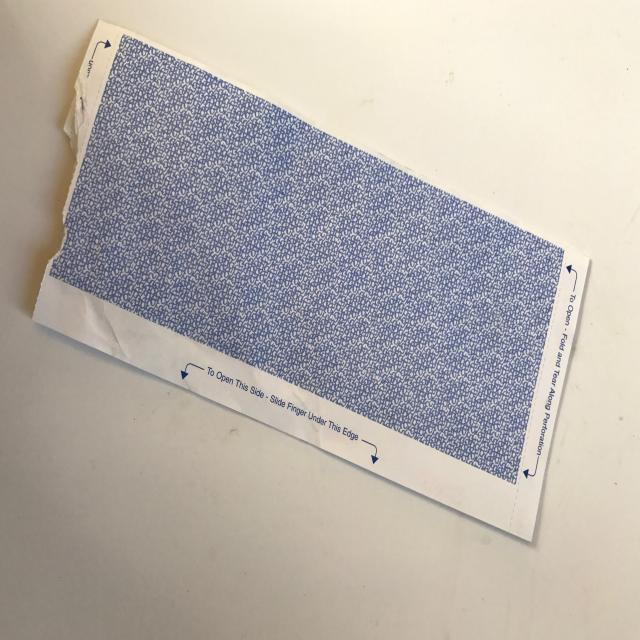paper: (18, 9, 610, 571)
